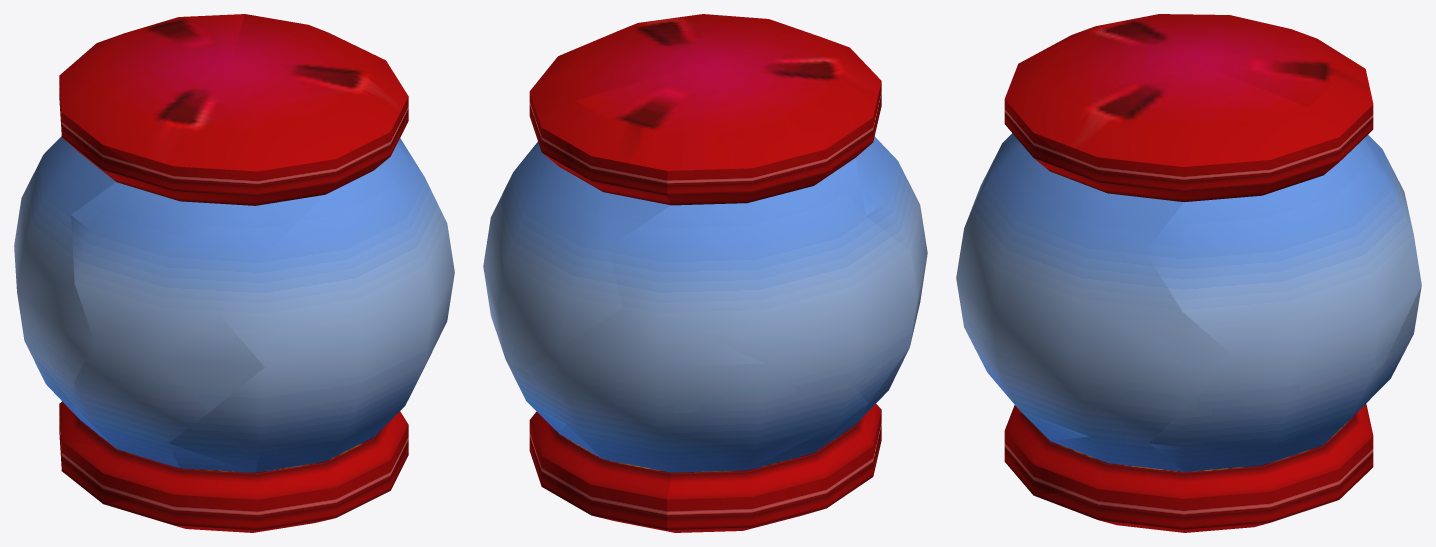
Rendered from capsule fix.fbx.
The picture shows the model from 3 angles, left to right: view 1: azimuth 30°, elevation 25°; view 2: azimuth 150°, elevation 25°; view 3: azimuth 270°, elevation 25°; orthographic projection.
Parts seen in each view (by area): view 1: Mesh_0478.001, Mesh_0478; view 2: Mesh_0478.001, Mesh_0478; view 3: Mesh_0478.001, Mesh_0478.
Boxes of the visible parts, bbox=[...] form: Mesh_0478.001: bbox=[14, 136, 454, 472]; Mesh_0478: bbox=[59, 14, 408, 532]; Mesh_0478.001: bbox=[483, 136, 927, 472]; Mesh_0478: bbox=[529, 14, 881, 532]; Mesh_0478.001: bbox=[956, 133, 1421, 471]; Mesh_0478: bbox=[1004, 14, 1373, 532].
Bounding box in the file's own units: 307 × 329 × 325.
2 materials, 2 textured.
